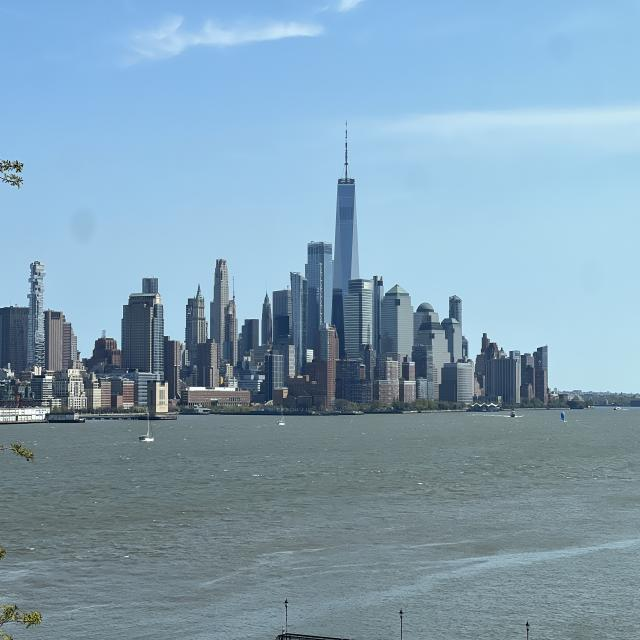WTC: (334, 122, 359, 284)
